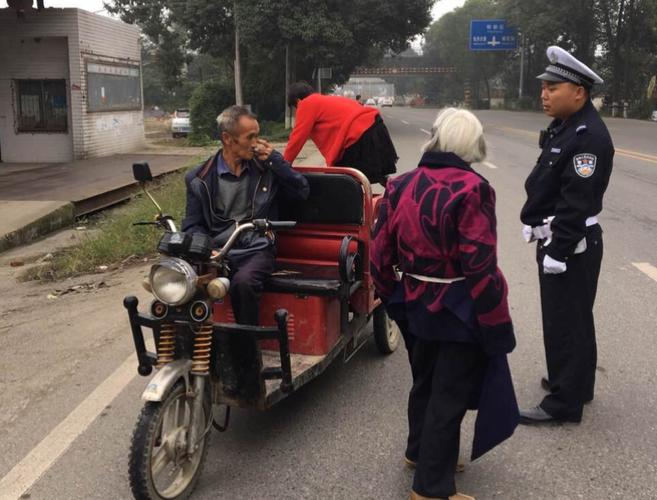driver: (174, 100, 288, 332)
overloading: (98, 49, 431, 496)
passenger: (280, 72, 401, 186)
